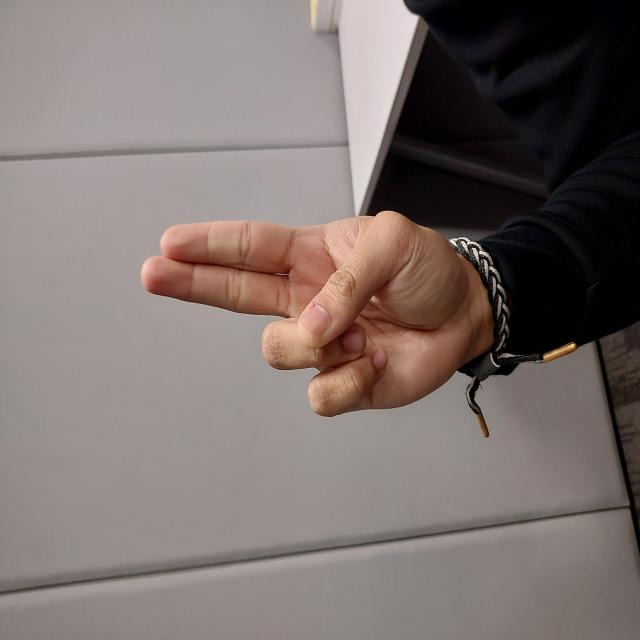U: (221, 139, 432, 474)
